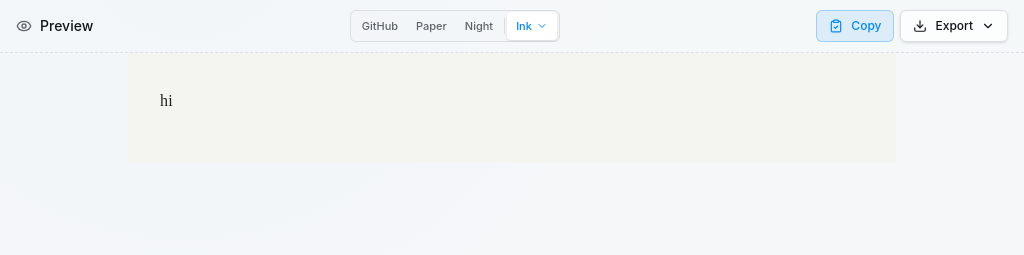
Markdown 预览主题 › 更多菜单列出全部非快捷主题
Press the mouse on the button "Ink" at coordinates (532, 26), box top-left (507, 12), bottom-right (557, 40)
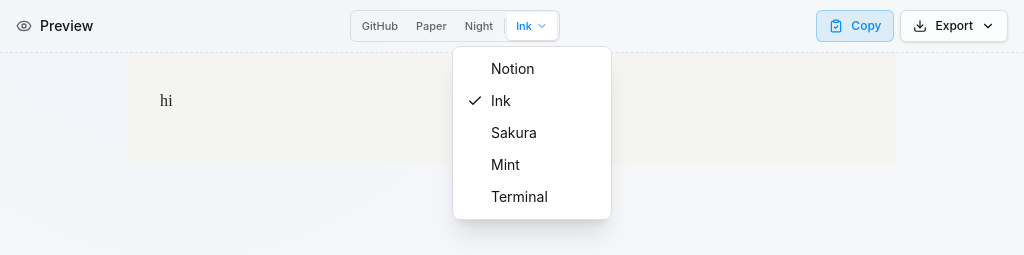
Expected: the number of menu items is 5, top-left (491, 60), bottom-right (535, 77); top-left (467, 92), bottom-right (511, 109); top-left (491, 124), bottom-right (537, 141); top-left (491, 156), bottom-right (520, 173); top-left (491, 188), bottom-right (548, 205)
Expected: the menu item "Notion" is shown, top-left (491, 60), bottom-right (535, 77)
Expected: the menu item "Ink" is shown, top-left (467, 92), bottom-right (511, 109)
